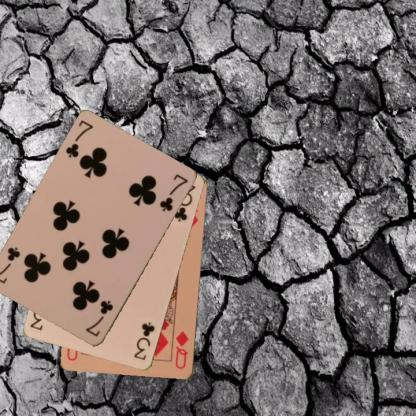3c: (131, 320, 157, 362)
7c: (63, 118, 95, 159), (83, 298, 115, 338)
Qd: (173, 329, 190, 370)
